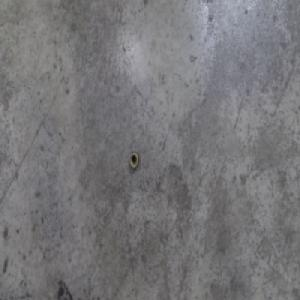Nut: (128, 149, 140, 170)
